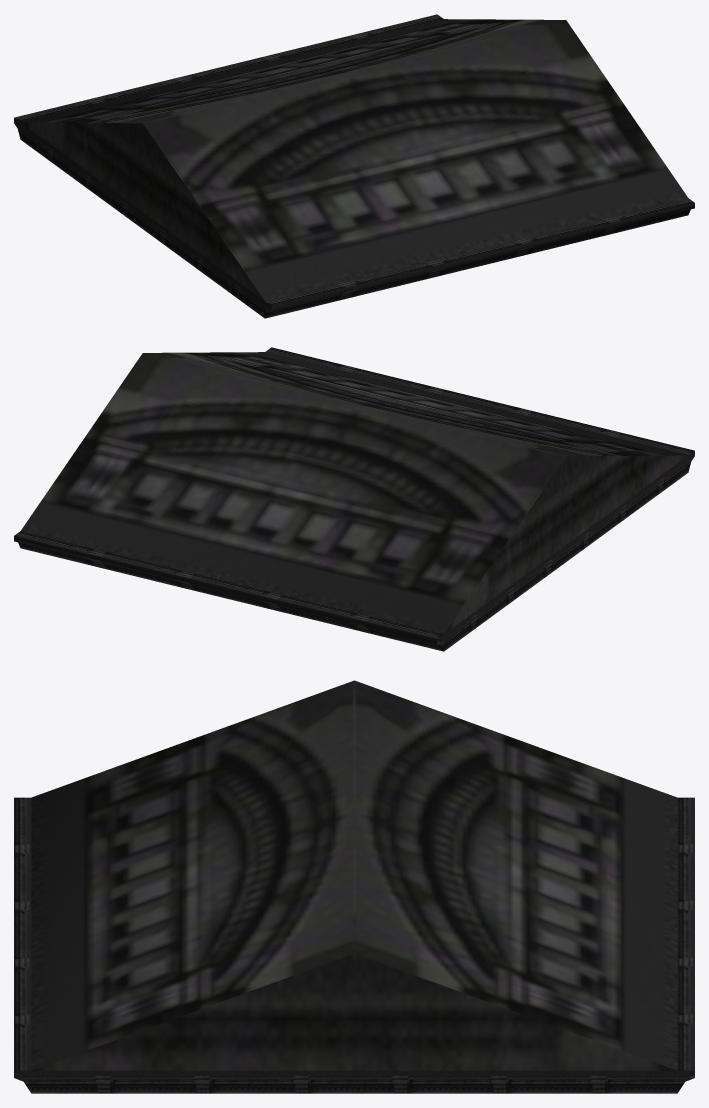
The model's file is roof.obj.
3 views of the same model, one above another, from view 1: azimuth 30°, elevation 25°; view 2: azimuth 150°, elevation 25°; view 3: azimuth 270°, elevation 25° (orthographic). The views are drawn at different scales.
Visible parts, largest first — view 1: group; view 2: group; view 3: group.
Part boxes in pixels (left/top/right/bottom): group: left=14, top=14, right=694, bottom=318; group: left=14, top=347, right=694, bottom=651; group: left=14, top=680, right=694, bottom=1093.
Size of the model in its own units: 10 by 2.39 by 10.54.
